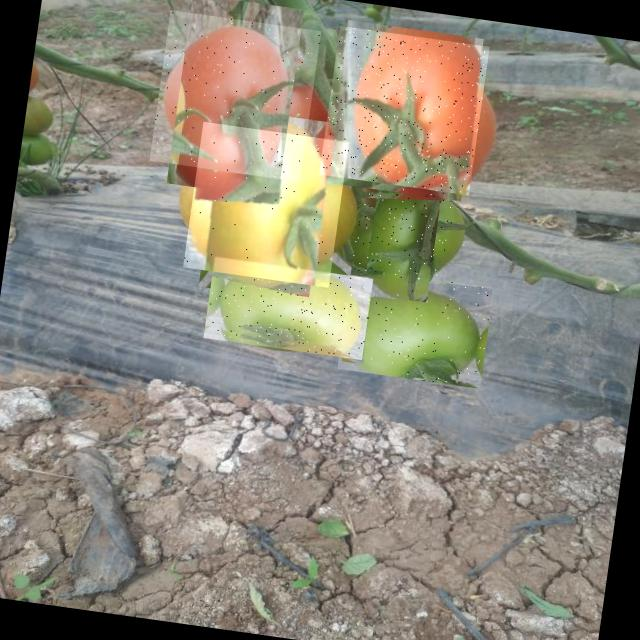Ripe Tomato: (150, 11, 322, 182), (320, 26, 490, 196)
Unripe Tomato: (183, 122, 349, 288), (338, 268, 494, 389), (204, 257, 374, 360), (350, 182, 456, 288)
